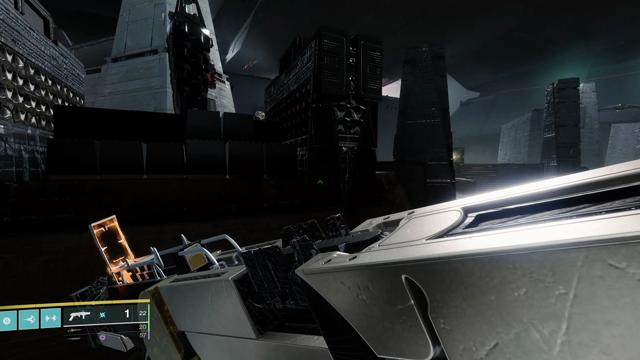brain: (255, 109, 266, 121)
